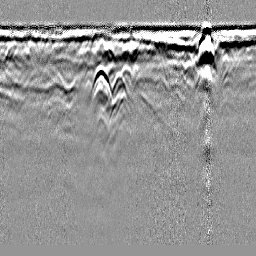cavity: (121, 61, 133, 82)
